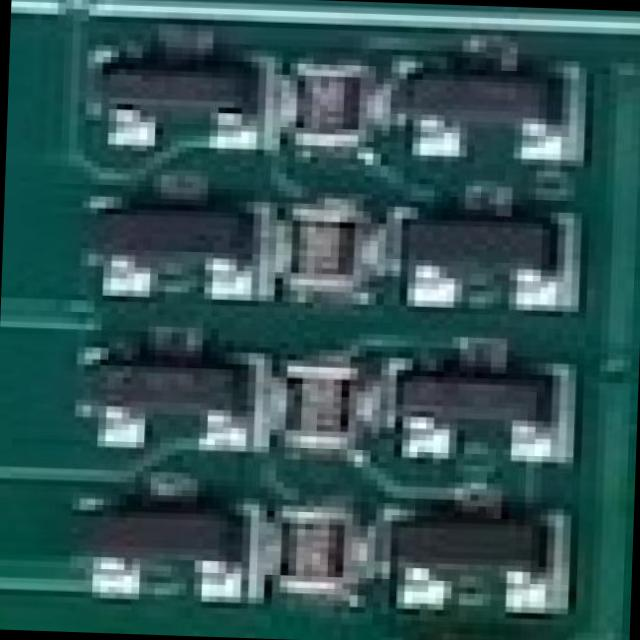resistor: (290, 204, 378, 292), (271, 504, 349, 596), (293, 359, 361, 442), (296, 68, 366, 145)
transistor: (398, 44, 594, 157), (402, 186, 578, 306), (388, 501, 561, 607), (402, 348, 577, 452), (80, 488, 256, 590), (104, 40, 260, 154), (88, 344, 255, 447), (95, 193, 258, 288)
